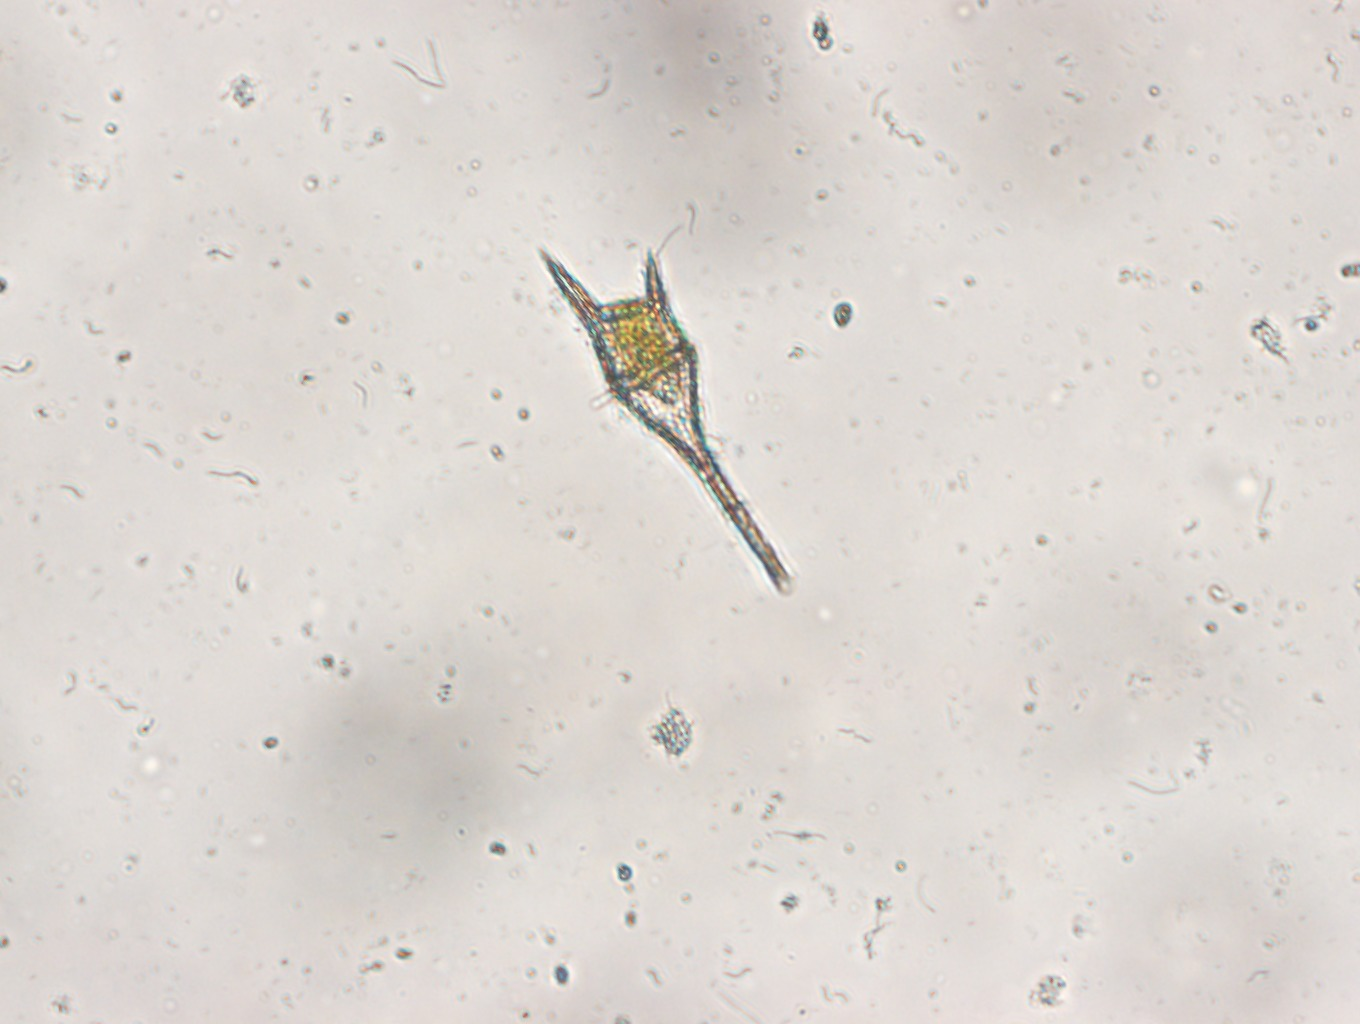ceratium furca: (530, 236, 796, 600)
